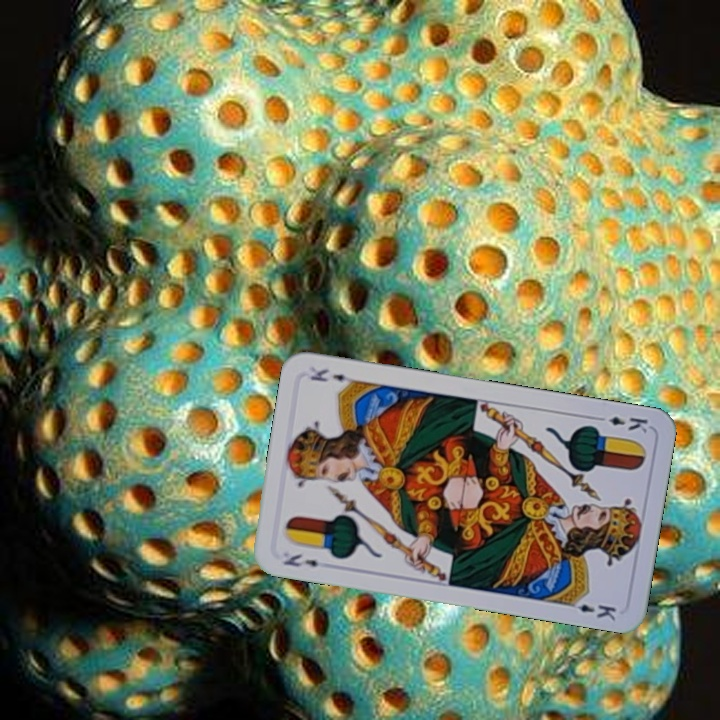EK: (592, 412, 651, 435), (279, 550, 321, 570)
